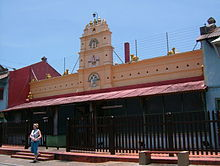Hindu Temple: (40, 16, 202, 85)
